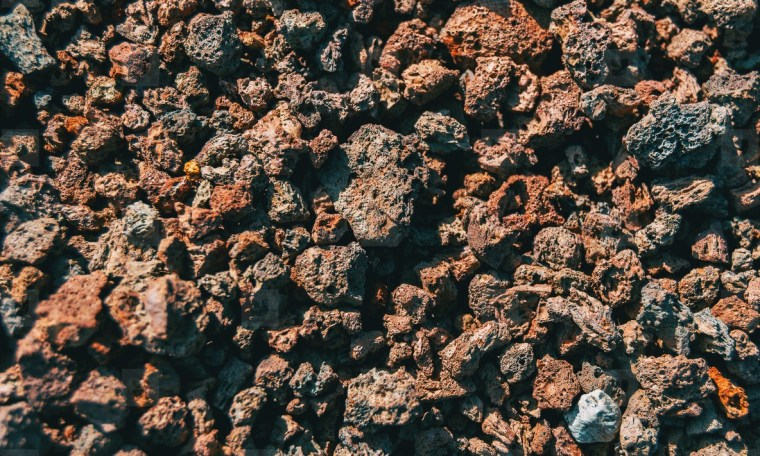volcanic_rock: (450, 173, 592, 284), (461, 175, 579, 269), (186, 255, 292, 355), (619, 354, 723, 452), (619, 92, 727, 186), (340, 127, 423, 248), (559, 380, 670, 456), (369, 15, 452, 109), (552, 21, 640, 107), (519, 286, 615, 359), (336, 373, 432, 444), (282, 244, 373, 315), (215, 380, 299, 456), (175, 2, 248, 88), (177, 165, 259, 238), (456, 54, 531, 129), (1, 3, 67, 84)
